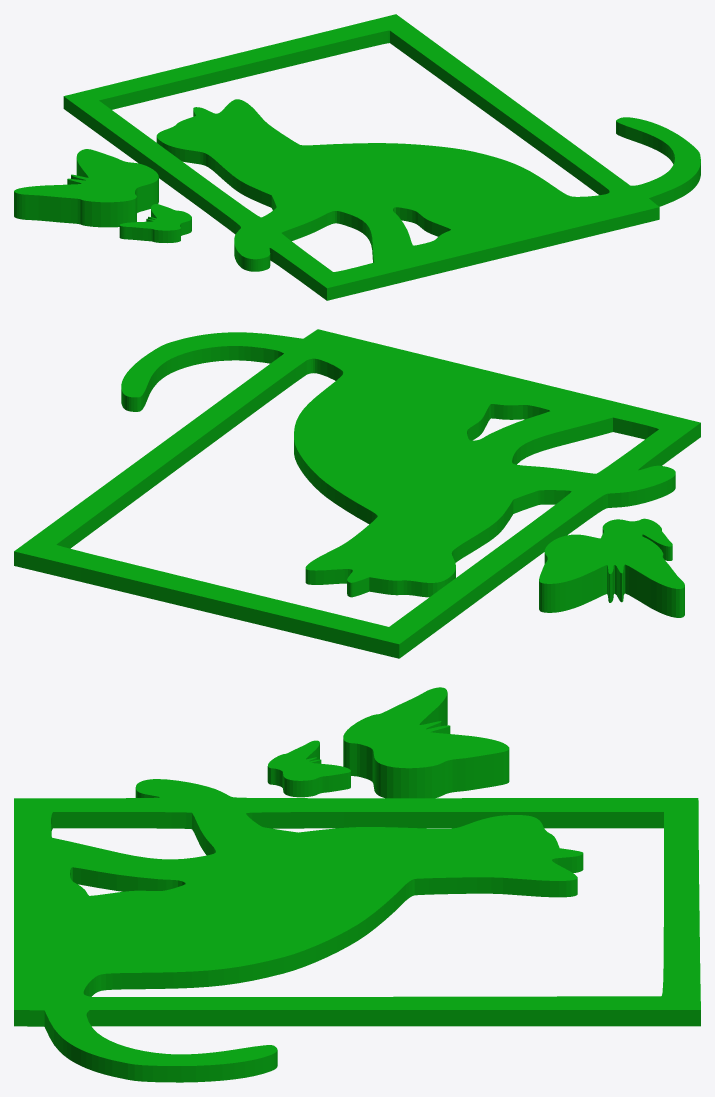
Rendered from cats-wall.glb.
3 renders of one model, top to bottom at view 1: azimuth 30°, elevation 25°; view 2: azimuth 150°, elevation 25°; view 3: azimuth 270°, elevation 25°, orthographic. The views are drawn at different scales.
Visible parts, largest first — view 1: Cat-2.stl_fil1, Butterfly.stl_fil1 (×2); view 2: Cat-2.stl_fil1, Butterfly.stl_fil1 (×2); view 3: Cat-2.stl_fil1, Butterfly.stl_fil1 (×2).
Part boxes in pixels (x1,y1,x2,y2): Cat-2.stl_fil1: (63, 14, 700, 300); Butterfly.stl_fil1 (×2): (14, 149, 191, 242); Cat-2.stl_fil1: (14, 329, 700, 658); Butterfly.stl_fil1 (×2): (539, 518, 684, 617); Cat-2.stl_fil1: (14, 779, 700, 1082); Butterfly.stl_fil1 (×2): (267, 687, 509, 798).
Size of the model in its own units: 0.237 by 0.01 by 0.1899.
